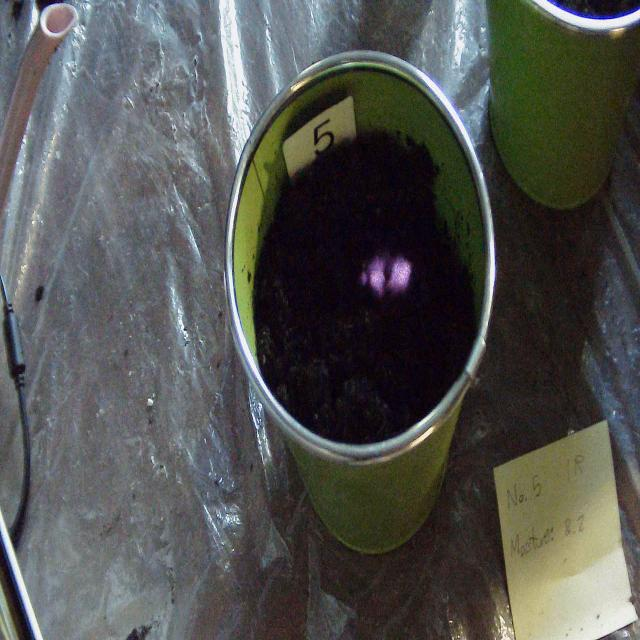soil-moisture-8.2: (361, 253, 411, 295)
